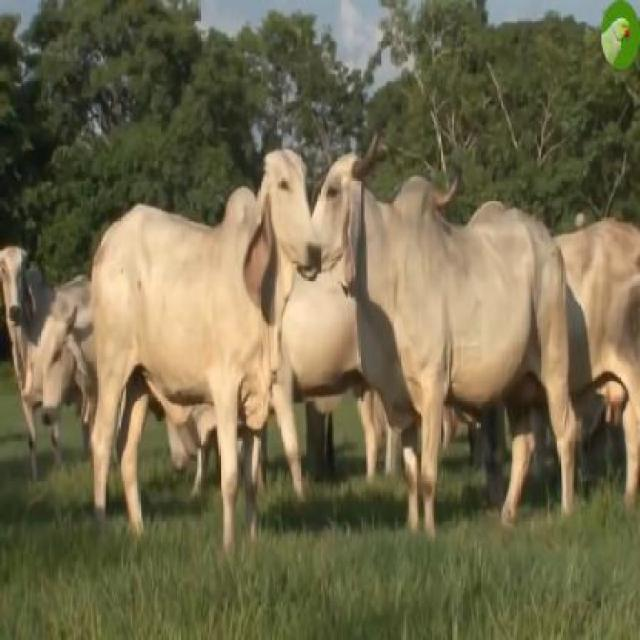Cow: (308, 140, 577, 554), (92, 142, 320, 560)
